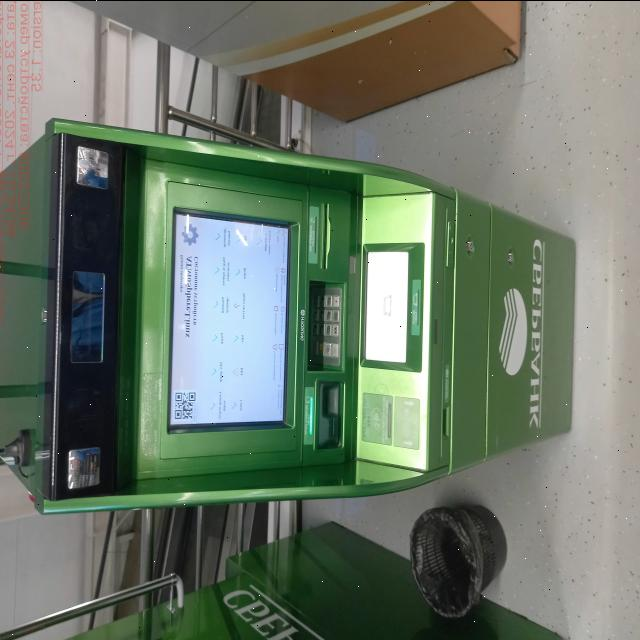bank: (0, 121, 581, 508), (38, 530, 569, 640)
